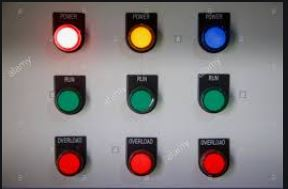Blue_Led_Off: (199, 23, 232, 54)
Green_Led_Off: (126, 85, 158, 116), (53, 86, 87, 115), (199, 86, 229, 114)
Red_Led_Off: (198, 148, 230, 179), (125, 148, 159, 177), (54, 149, 85, 178)
Red_Led_On: (52, 22, 85, 53)
Yellow_Led_Off: (126, 23, 157, 53)
